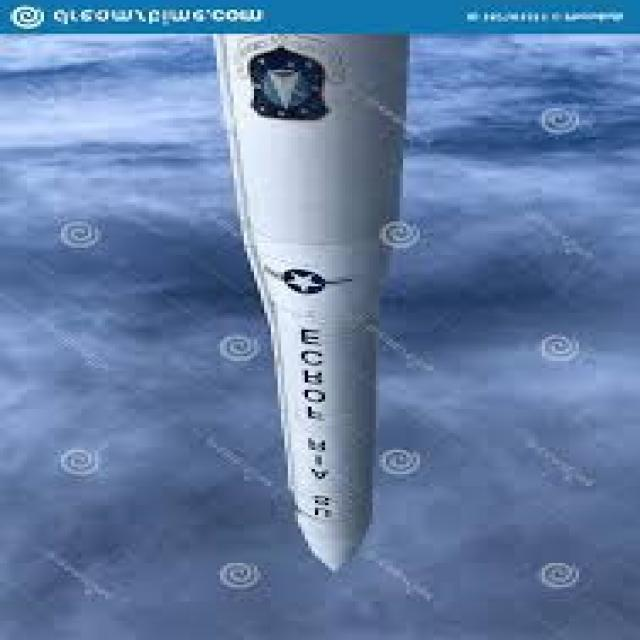Missile: (194, 36, 426, 581)
